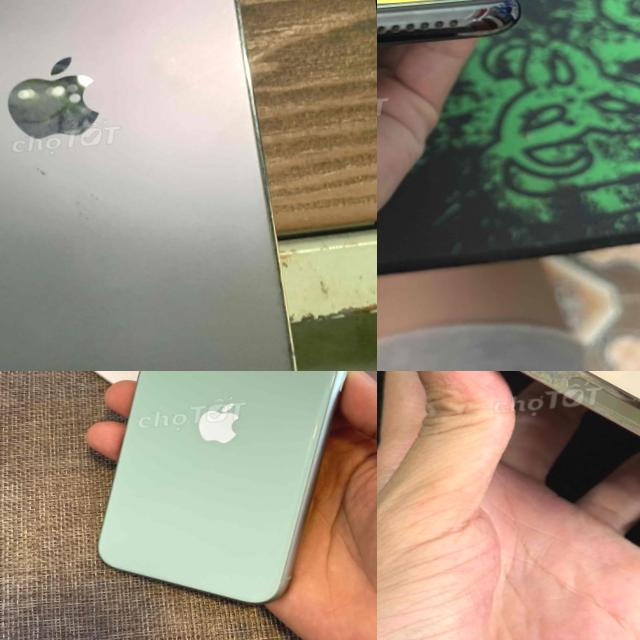scratch: (511, 371, 615, 409)
